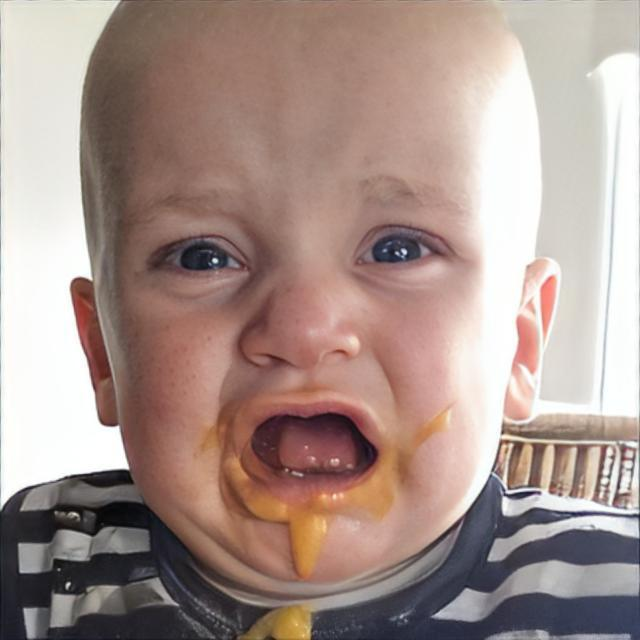sad: (106, 16, 521, 586)
